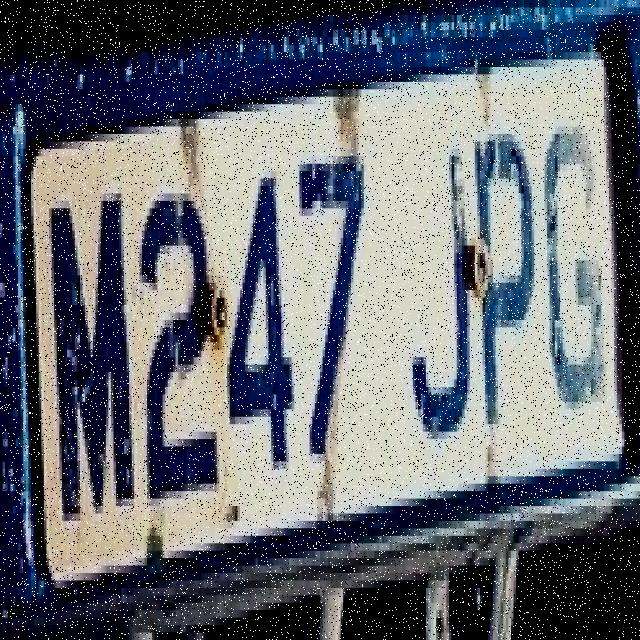licenseplate: (6, 30, 628, 612)
